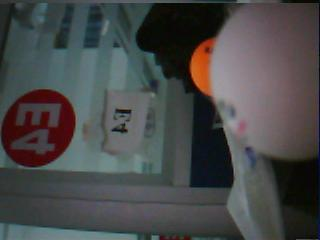oball: (189, 38, 220, 98)
